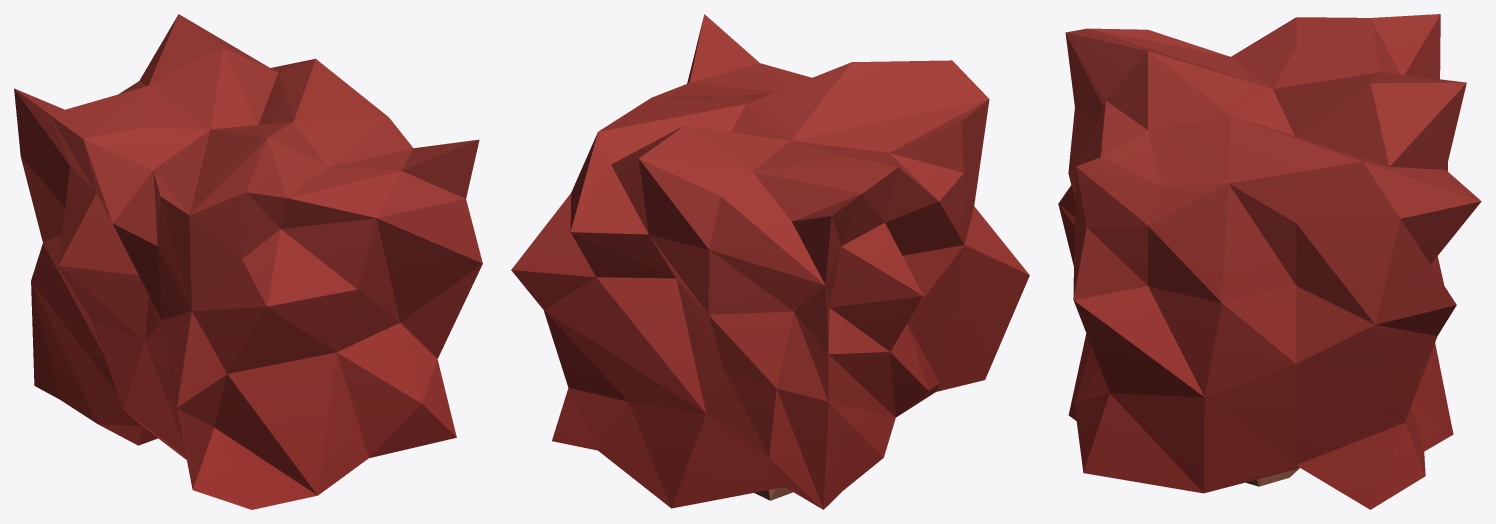
The model's file is Bush_7_gradient_red_vc.fbx.
3 renders of one model, left to right at view 1: azimuth 30°, elevation 25°; view 2: azimuth 150°, elevation 25°; view 3: azimuth 270°, elevation 25°, orthographic. The views are drawn at different scales.
Parts seen in each view (by area): view 1: Bush_7_gradient_red_vc; view 2: Bush_7_gradient_red_vc; view 3: Bush_7_gradient_red_vc.
Part boxes in pixels (x1,y1,x2,y2): Bush_7_gradient_red_vc: (14,14,482,509); Bush_7_gradient_red_vc: (511,14,1029,509); Bush_7_gradient_red_vc: (1058,14,1481,509).
Bounding box in the file's own units: 47.57 × 52.13 × 49.43.
